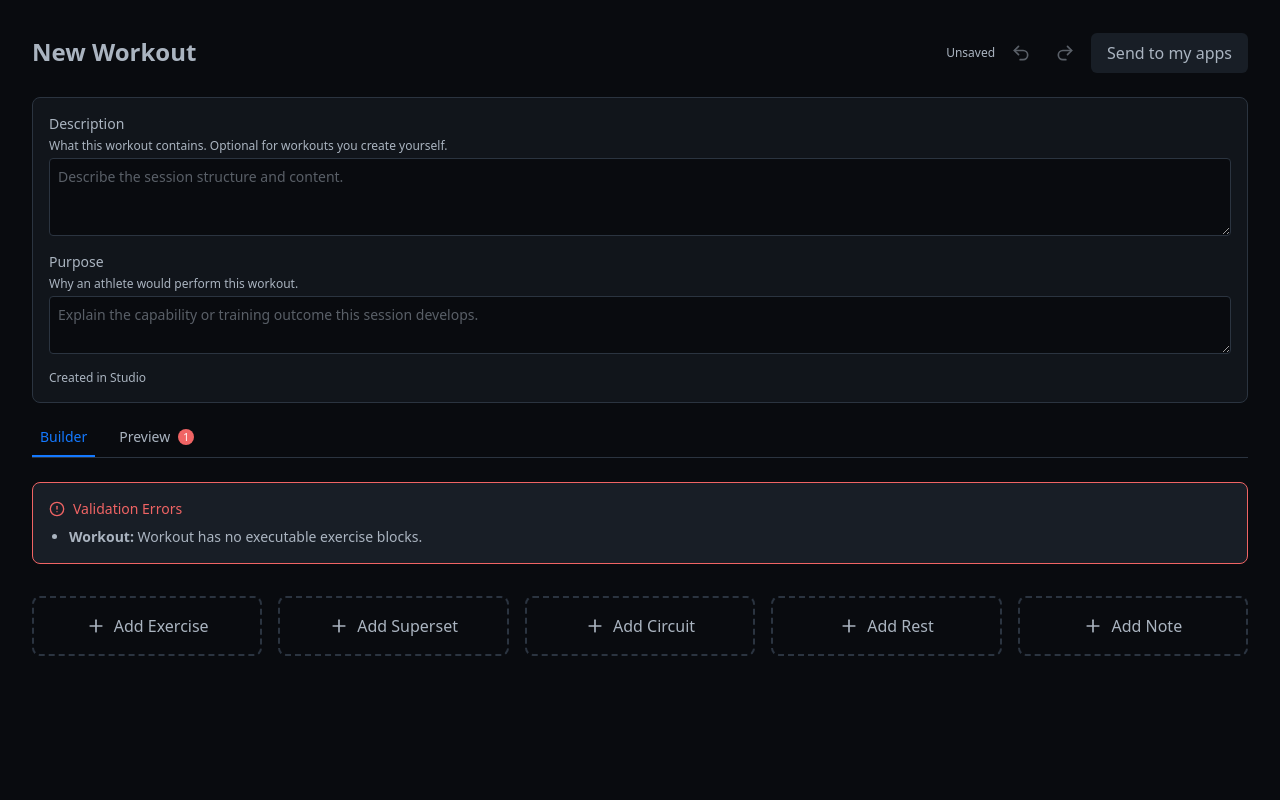
Scenario: WorkoutBuilder › keeps circuit rounds within the supported range
Click the button "Add Circuit".
click(640, 626)  # box [525,596,755,656]
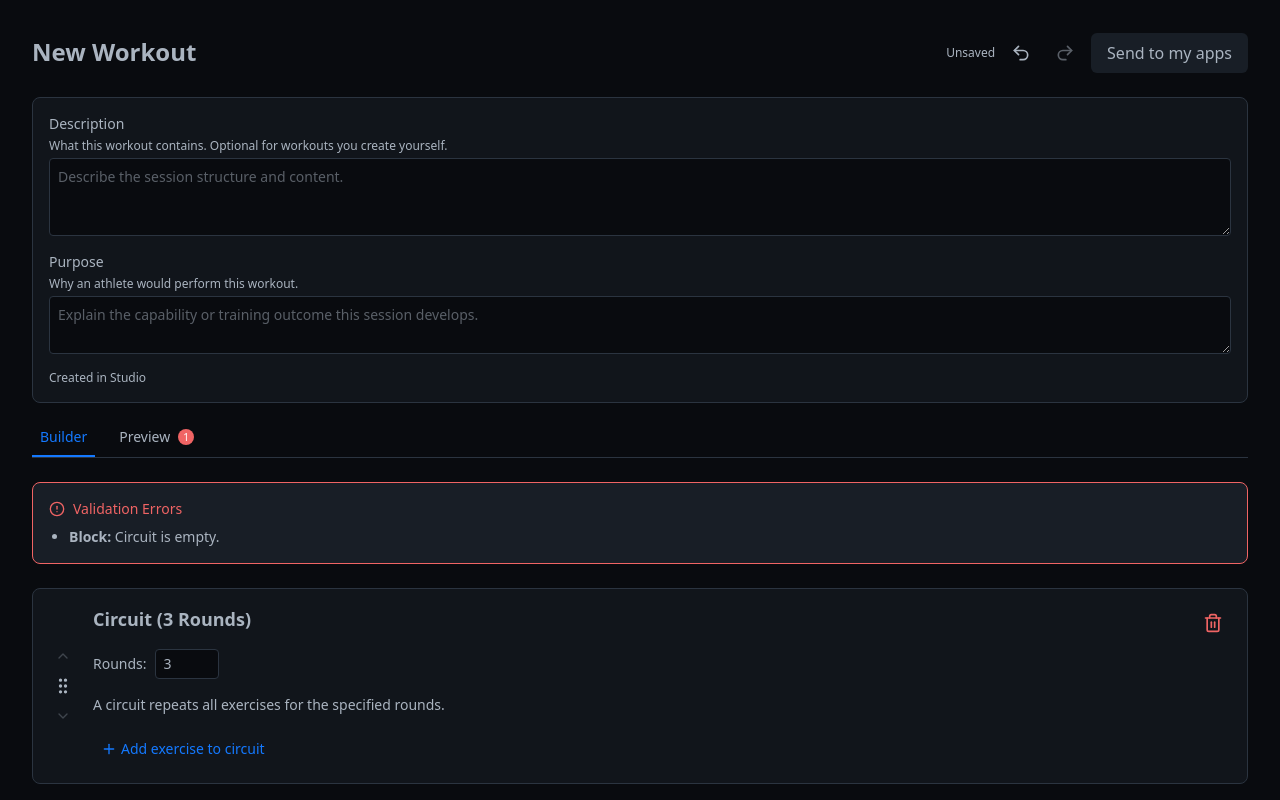
Replace the text in the number field named "Circuit rounds" with "0" at (187, 664), box [155,649,219,679]
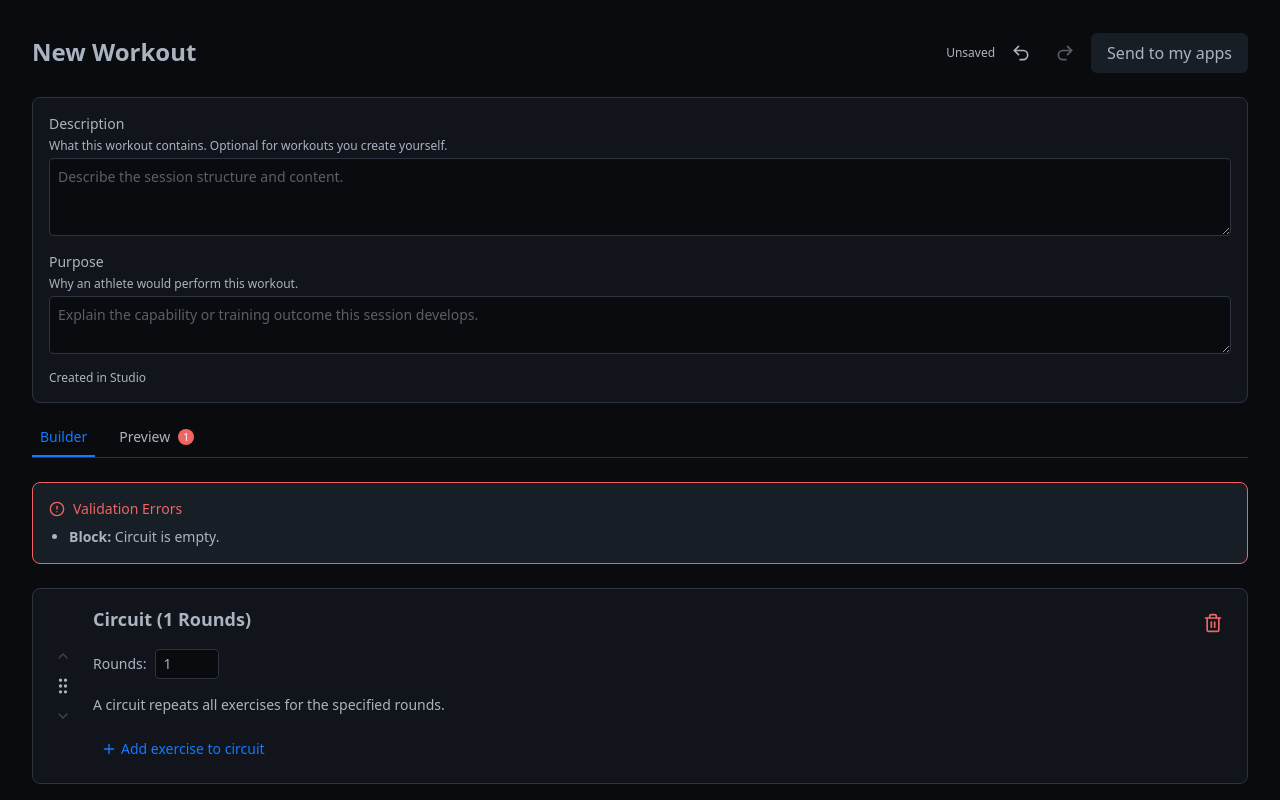
Expected: the number field named "Circuit rounds" holds "1"
Replace the text in the number field named "Circuit rounds" with "150" at (187, 664), box [155,649,219,679]
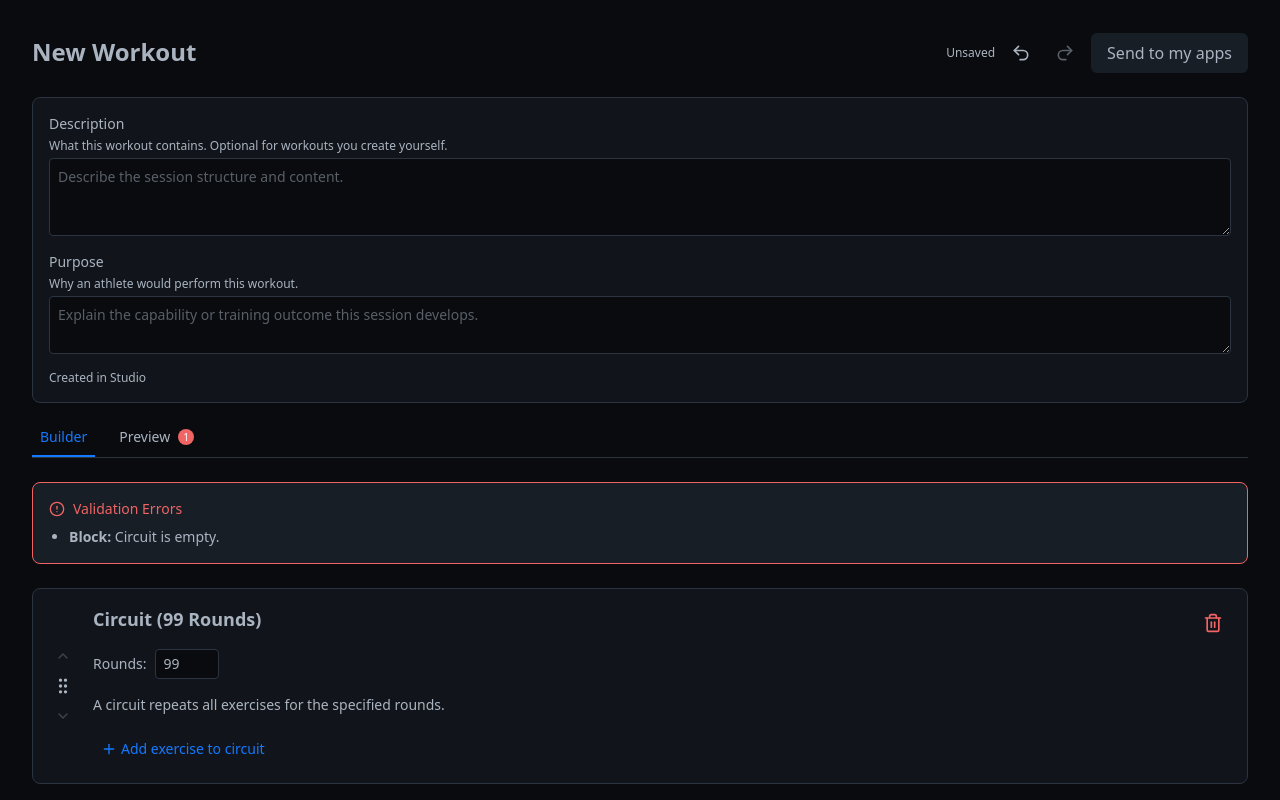
Expected: the number field named "Circuit rounds" holds "99", [155,649,219,679]
